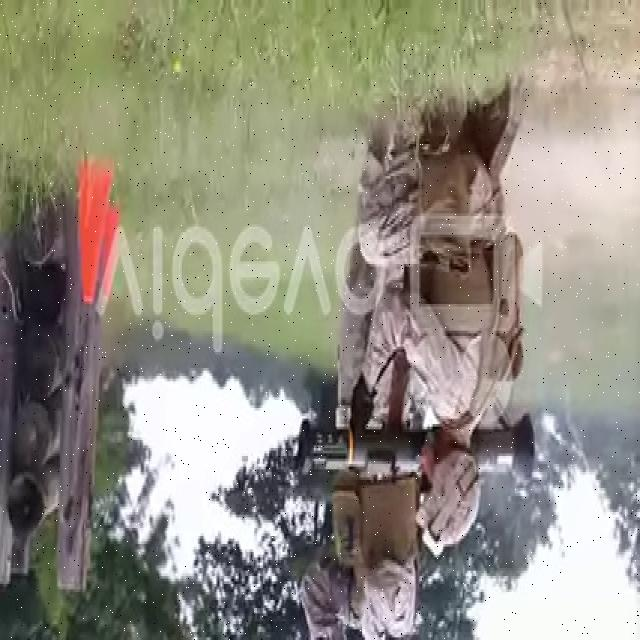bazooka: (293, 407, 541, 496)
